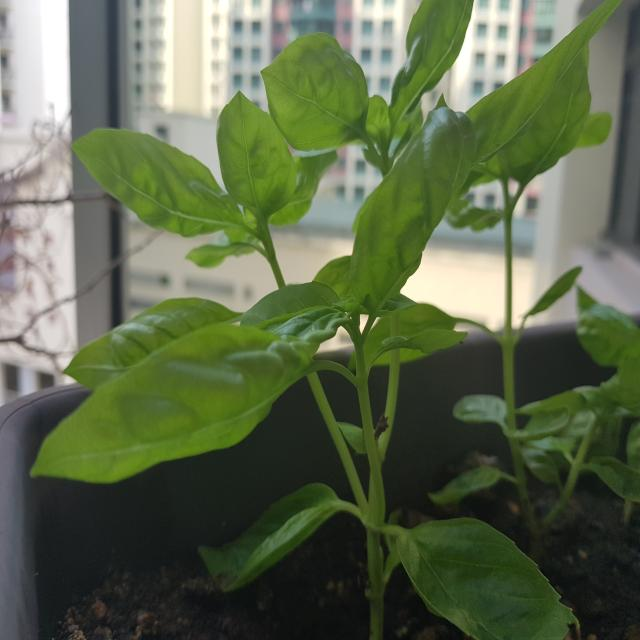Sweet Basil: (32, 0, 630, 640)
